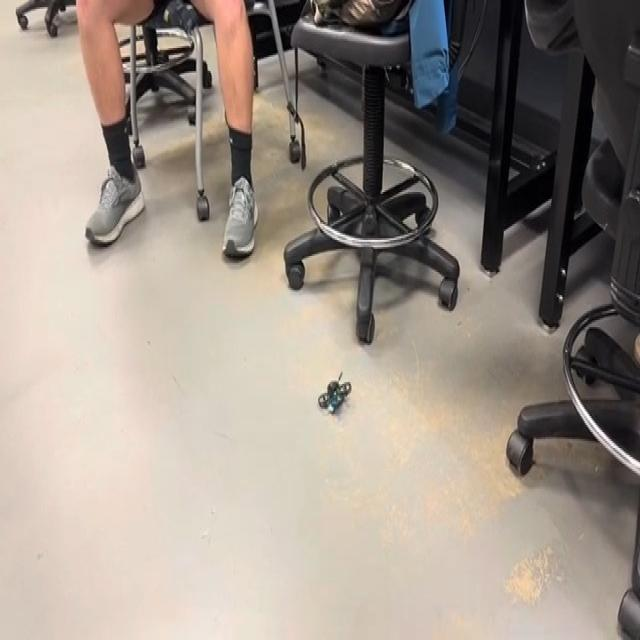drone: (312, 362, 368, 420)
